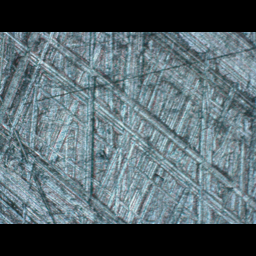d: (28, 40, 232, 215)
